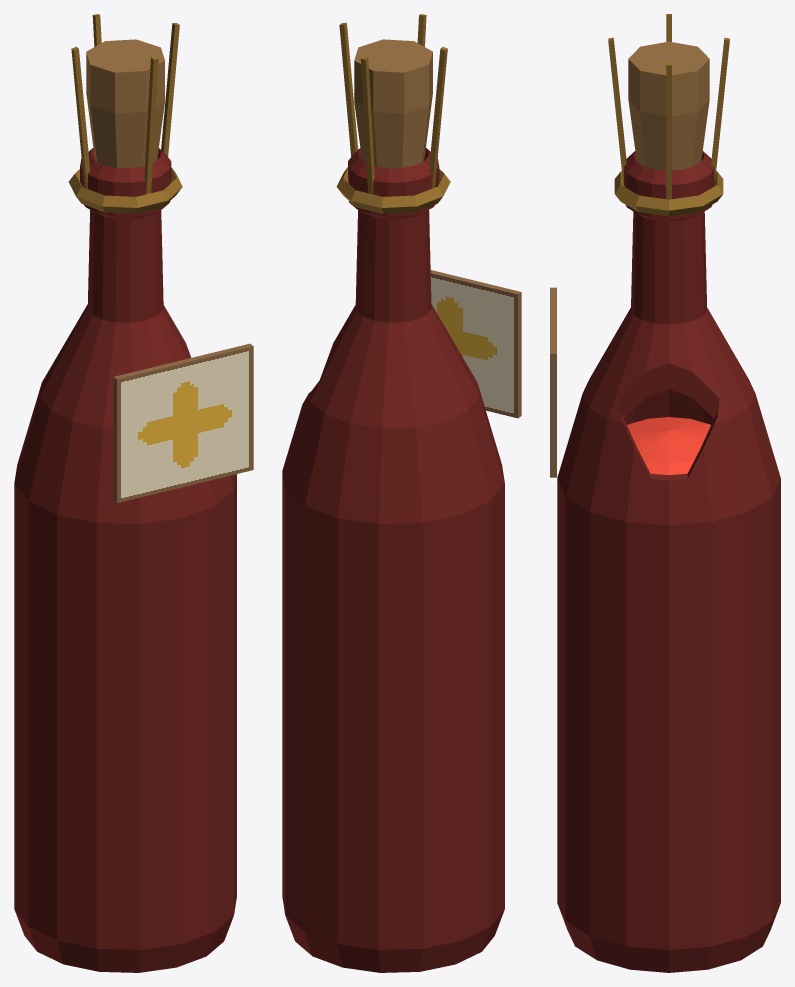
The model's file is hero_drink.obj.
3 renders of one model, left to right at view 1: azimuth 30°, elevation 25°; view 2: azimuth 150°, elevation 25°; view 3: azimuth 270°, elevation 25°, orthographic.
Visible parts, largest first — view 1: A_Flask.001_hero_drink_glass, C_Label.001_hero_drink_label, S_Cork.001_hero_drink_cork, S_Collar.001_hero_drink_brass, S_Wire3.001_hero_drink_brass, S_Wire2.001_hero_drink_brass, S_Wire0.001_hero_drink_brass; view 2: A_Flask.001_hero_drink_glass, C_Label.001_hero_drink_label, S_Cork.001_hero_drink_cork, S_Collar.001_hero_drink_brass, S_Wire1.001_hero_drink_brass, S_Wire2.001_hero_drink_brass, S_Wire0.001_hero_drink_brass; view 3: A_Flask.001_hero_drink_glass, S_Cork.001_hero_drink_cork, A_Liquid.001_hero_drink_liquid, S_Collar.001_hero_drink_brass, C_Label.001_hero_drink_label, S_Wire1.001_hero_drink_brass, S_Wire3.001_hero_drink_brass, S_Wire0.001_hero_drink_brass.
Part boxes in pixels (left/top/right/bottom): A_Flask.001_hero_drink_glass: left=14, top=148, right=236, bottom=972; C_Label.001_hero_drink_label: left=113, top=343, right=253, bottom=503; S_Cork.001_hero_drink_cork: left=86, top=39, right=164, bottom=168; S_Collar.001_hero_drink_brass: left=68, top=167, right=182, bottom=213; S_Wire3.001_hero_drink_brass: left=144, top=55, right=158, bottom=194; S_Wire2.001_hero_drink_brass: left=71, top=47, right=90, bottom=188; S_Wire0.001_hero_drink_brass: left=161, top=23, right=179, bottom=156; A_Flask.001_hero_drink_glass: left=282, top=148, right=504, bottom=972; C_Label.001_hero_drink_label: left=430, top=270, right=521, bottom=418; S_Cork.001_hero_drink_cork: left=354, top=39, right=432, bottom=168; S_Collar.001_hero_drink_brass: left=336, top=167, right=450, bottom=213; S_Wire1.001_hero_drink_brass: left=360, top=55, right=374, bottom=194; S_Wire2.001_hero_drink_brass: left=429, top=46, right=447, bottom=188; S_Wire0.001_hero_drink_brass: left=339, top=23, right=358, bottom=156; A_Flask.001_hero_drink_glass: left=557, top=151, right=780, bottom=972; S_Cork.001_hero_drink_cork: left=628, top=41, right=709, bottom=170; A_Liquid.001_hero_drink_liquid: left=627, top=417, right=710, bottom=474; S_Collar.001_hero_drink_brass: left=614, top=171, right=723, bottom=216; C_Label.001_hero_drink_label: left=550, top=287, right=556, bottom=477; S_Wire1.001_hero_drink_brass: left=711, top=37, right=729, bottom=181; S_Wire3.001_hero_drink_brass: left=608, top=37, right=626, bottom=181; S_Wire0.001_hero_drink_brass: left=666, top=62, right=671, bottom=199.
Bounding box in the file's own units: 0.7357 × 3.23 × 0.7591.
